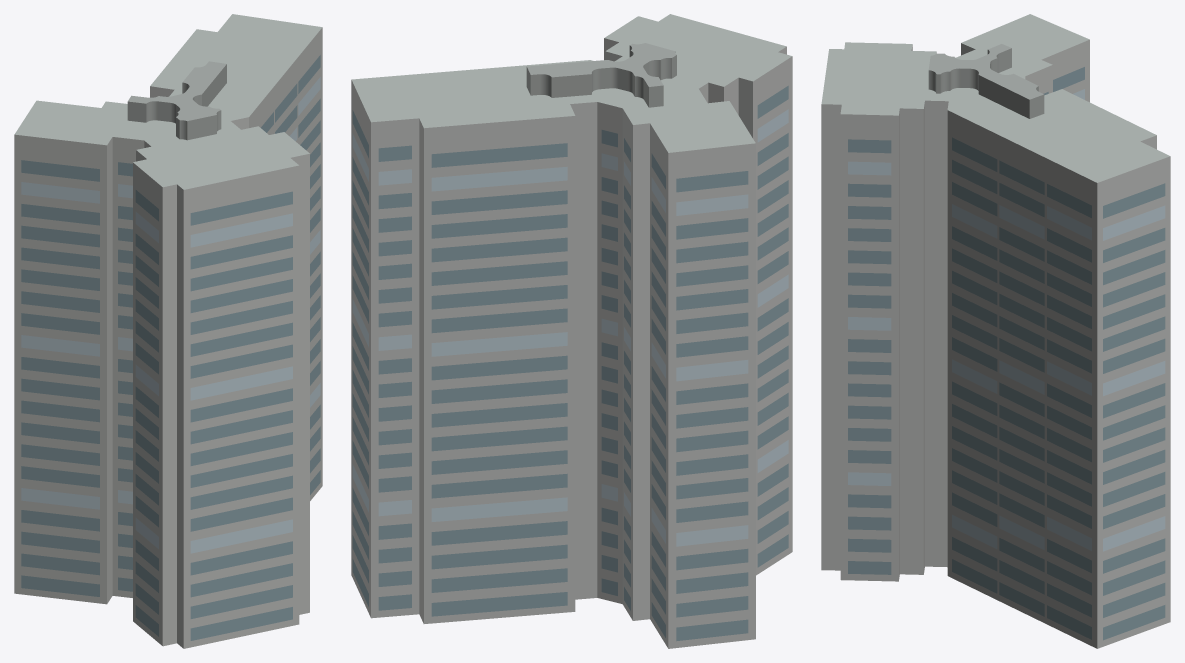
File: fallback-geumho-park-hills-102.glb
The picture shows the model from 3 angles, left to right: view 1: azimuth 30°, elevation 25°; view 2: azimuth 150°, elevation 25°; view 3: azimuth 270°, elevation 25°; orthographic projection. The views are drawn at different scales.
Visible parts, largest first — view 1: fallback-geumho-park-hills-102; view 2: fallback-geumho-park-hills-102; view 3: fallback-geumho-park-hills-102.
Part boxes in pixels (x1,y1,x2,y2): fallback-geumho-park-hills-102: (14,14,322,648); fallback-geumho-park-hills-102: (351,14,792,648); fallback-geumho-park-hills-102: (821,14,1170,648).
Size of the model in its own units: 44.81 by 60 by 39.11.
